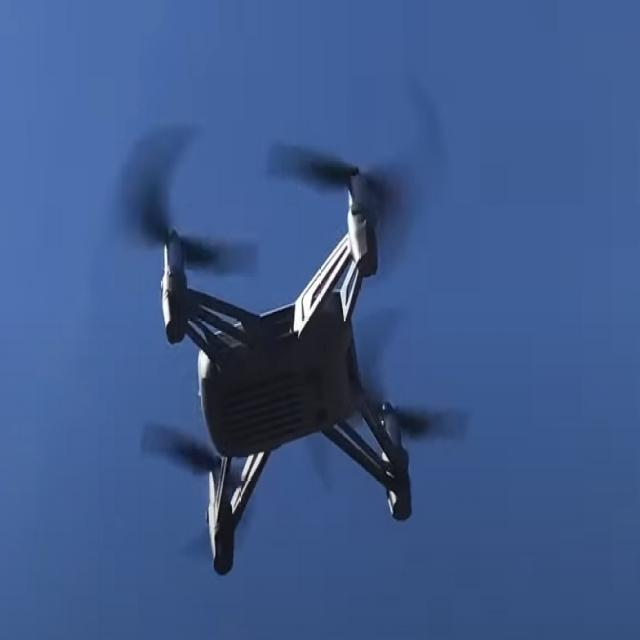drone: (89, 77, 482, 610)
